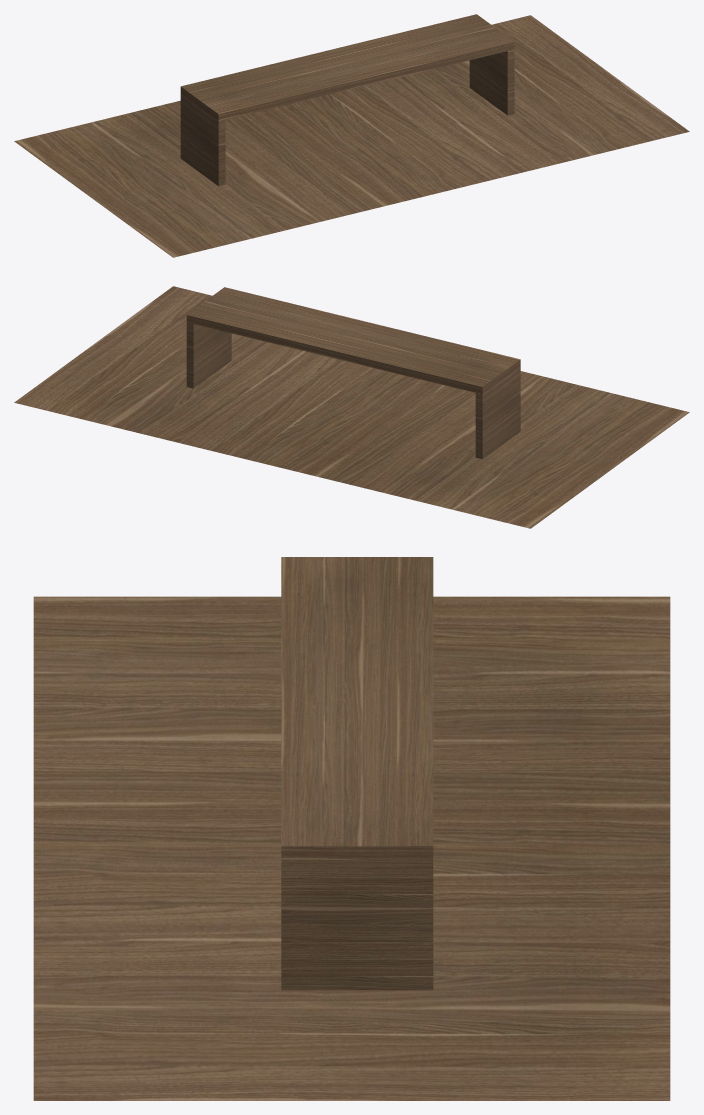
The picture shows the model from 3 angles, top to bottom: view 1: azimuth 30°, elevation 25°; view 2: azimuth 150°, elevation 25°; view 3: azimuth 270°, elevation 25°; orthographic projection. The views are drawn at different scales.
Visible parts, largest first — view 1: mesh0, object_1; view 2: mesh0, object_1; view 3: mesh0, object_1.
Boxes of the visible parts, left/top/right/bottom form: mesh0: left=14, top=15, right=689, bottom=257; object_1: left=180, top=14, right=514, bottom=186; mesh0: left=14, top=286, right=689, bottom=528; object_1: left=186, top=287, right=520, bottom=459; mesh0: left=33, top=596, right=670, bottom=1100; object_1: left=281, top=557, right=433, bottom=990.
Size of the model in its own units: 7.85 by 1.05 by 4.19.
